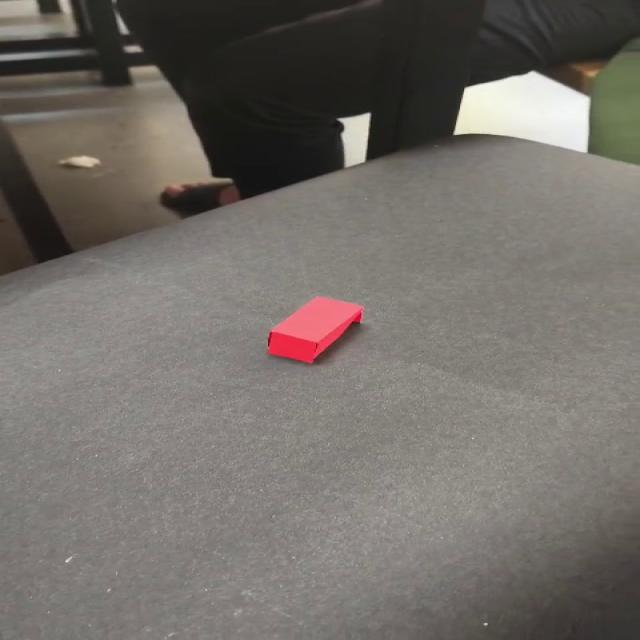red block: (265, 295, 364, 364)
